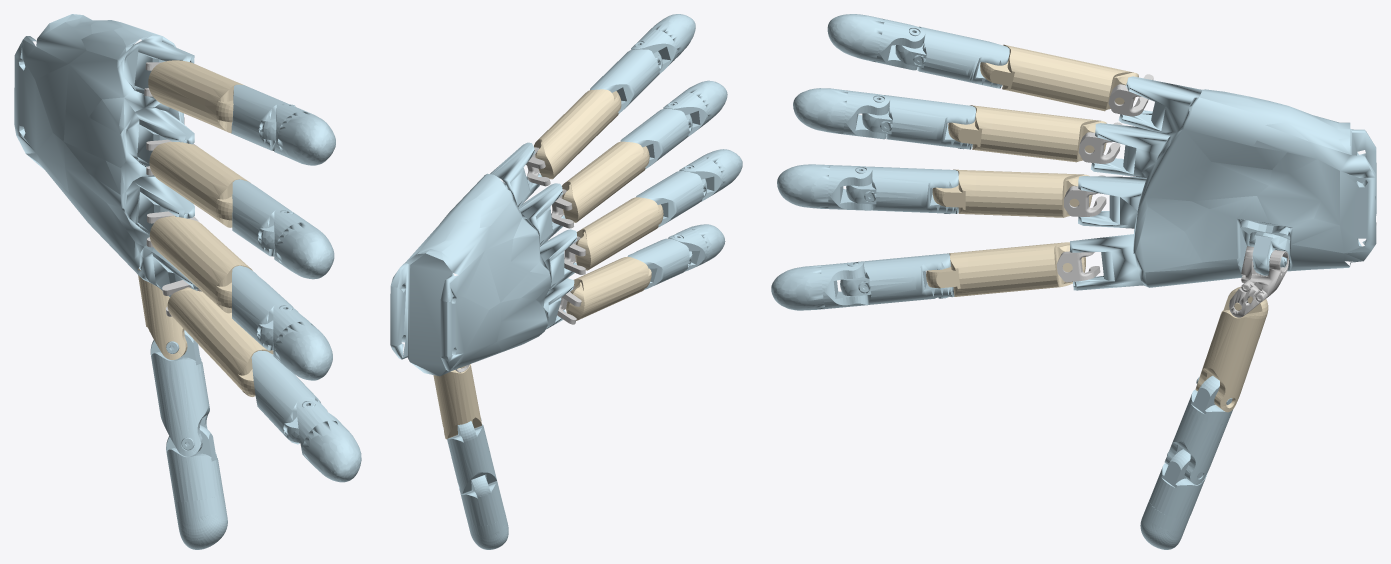
File: wuji-left-overview.glb
3 views of the same model, side by side, from view 1: azimuth 30°, elevation 25°; view 2: azimuth 150°, elevation 25°; view 3: azimuth 270°, elevation 25° (orthographic). The views are drawn at different scales.
Visible parts, largest first — view 1: left_palm_link_visual, left_finger1_link3_visual, left_finger3_link2_visual, left_finger2_link2_visual, left_finger4_link2_visual, left_finger5_link2_visual, left_finger2_link3_visual, left_finger1_link4_visual, left_finger3_link3_visual, left_finger2_tip_link_visual, left_finger4_link3_visual, left_finger3_tip_link_visual (+9 smaller); view 2: left_palm_link_visual, left_finger5_link2_visual, left_finger4_link2_visual, left_finger3_link2_visual, left_finger2_link2_visual, left_finger1_link2_visual, left_finger5_link3_visual, left_finger1_link3_visual, left_finger4_link3_visual, left_finger3_link3_visual, left_finger2_link3_visual, left_finger1_link4_visual (+12 smaller); view 3: left_palm_link_visual, left_finger4_link2_visual, left_finger5_link2_visual, left_finger2_link2_visual, left_finger3_link2_visual, left_finger1_link2_visual, left_finger5_link3_visual, left_finger2_link3_visual, left_finger4_link3_visual, left_finger3_link3_visual, left_finger1_link3_visual, left_finger1_link4_visual (+14 smaller).
Part boxes in pixels (<box>): left_palm_link_visual: <box>14,14,198,296</box>; left_finger1_link3_visual: <box>150,330,209,456</box>; left_finger3_link2_visual: <box>149,215,252,313</box>; left_finger2_link2_visual: <box>167,287,273,396</box>; left_finger4_link2_visual: <box>149,141,250,227</box>; left_finger5_link2_visual: <box>148,60,245,133</box>; left_finger2_link3_visual: <box>251,350,327,444</box>; left_finger1_link4_visual: <box>166,425,223,501</box>; left_finger3_link3_visual: <box>232,265,293,350</box>; left_finger2_tip_link_visual: <box>303,420,361,482</box>; left_finger4_link3_visual: <box>232,179,290,256</box>; left_finger3_tip_link_visual: <box>275,321,332,380</box>; left_palm_link_visual: <box>390,142,576,376</box>; left_finger5_link2_visual: <box>534,89,621,179</box>; left_finger4_link2_visual: <box>562,141,649,222</box>; left_finger3_link2_visual: <box>575,197,663,270</box>; left_finger2_link2_visual: <box>566,256,651,320</box>; left_finger1_link2_visual: <box>433,364,481,439</box>; left_finger5_link3_visual: <box>590,49,662,114</box>; left_finger1_link3_visual: <box>447,417,496,494</box>; left_finger4_link3_visual: <box>620,108,692,169</box>; left_finger3_link3_visual: <box>636,171,707,227</box>; left_finger2_link3_visual: <box>628,238,692,289</box>; left_finger1_link4_visual: <box>460,475,504,525</box>; left_palm_link_visual: <box>1070,76,1376,290</box>; left_finger4_link2_visual: <box>948,105,1106,162</box>; left_finger5_link2_visual: <box>980,44,1138,111</box>; left_finger2_link2_visual: <box>926,242,1085,296</box>; left_finger3_link2_visual: <box>932,169,1092,217</box>; left_finger1_link2_visual: <box>1195,286,1268,412</box>; left_finger5_link3_visual: <box>895,26,1009,88</box>; left_finger2_link3_visual: <box>840,253,954,304</box>; left_finger4_link3_visual: <box>862,95,975,149</box>; left_finger3_link3_visual: <box>846,166,958,213</box>; left_finger1_link3_visual: <box>1164,375,1232,484</box>; left_finger1_link4_visual: <box>1149,449,1206,518</box>.
Bounding box in the file's own units: 0.0497 × 0.1895 × 0.2057.
